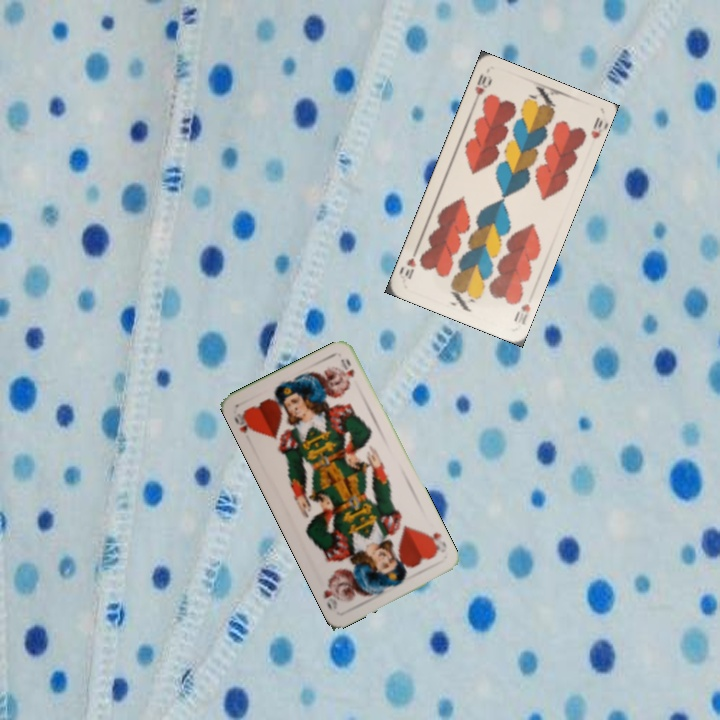H10: (469, 70, 494, 108), (510, 300, 533, 327)
HO: (420, 526, 450, 558), (230, 407, 257, 436)
